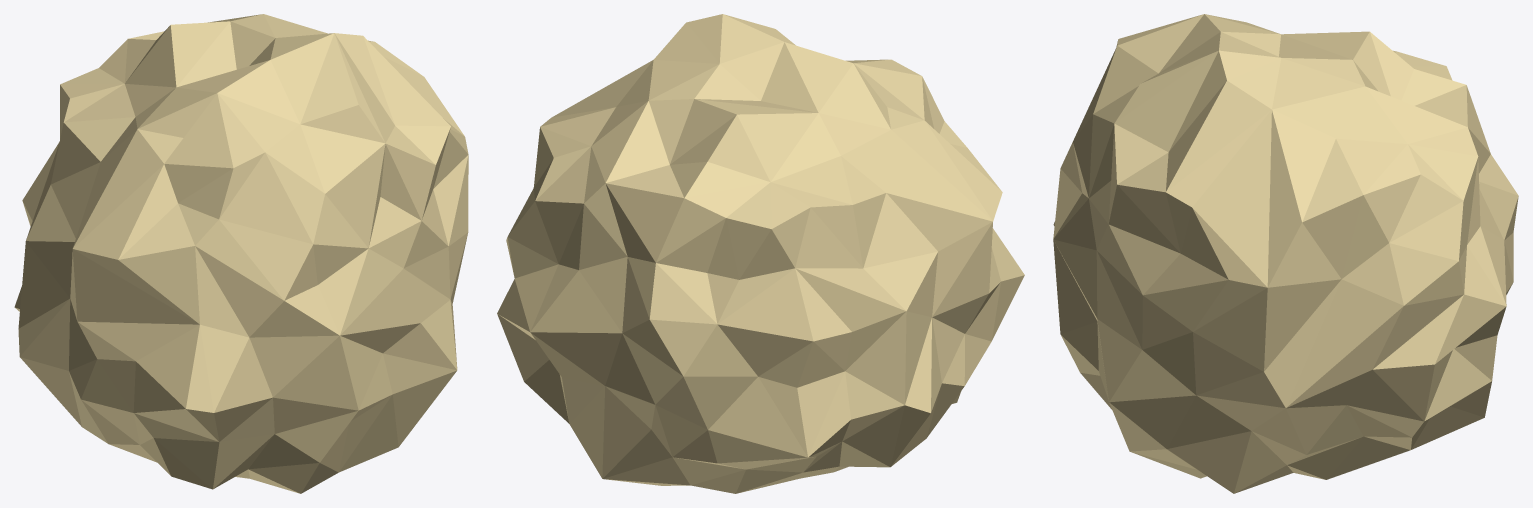
The model's file is Asteroid (111).fbx.
3 views of the same model, side by side, from view 1: azimuth 30°, elevation 25°; view 2: azimuth 150°, elevation 25°; view 3: azimuth 270°, elevation 25° (orthographic).
Visible parts, largest first — view 1: Asteroid171; view 2: Asteroid171; view 3: Asteroid171.
Part boxes in pixels (x1=…): Asteroid171: x1=14, y1=14, x2=468, y2=493; Asteroid171: x1=497, y1=14, x2=1024, y2=493; Asteroid171: x1=1053, y1=14, x2=1518, y2=493.
Size of the model in its own units: 431 by 415 by 408.
